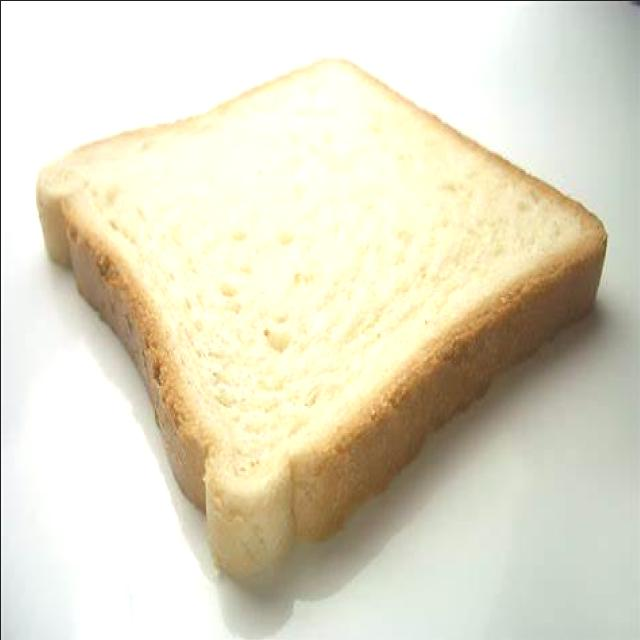roti tawar: (34, 56, 609, 593)
